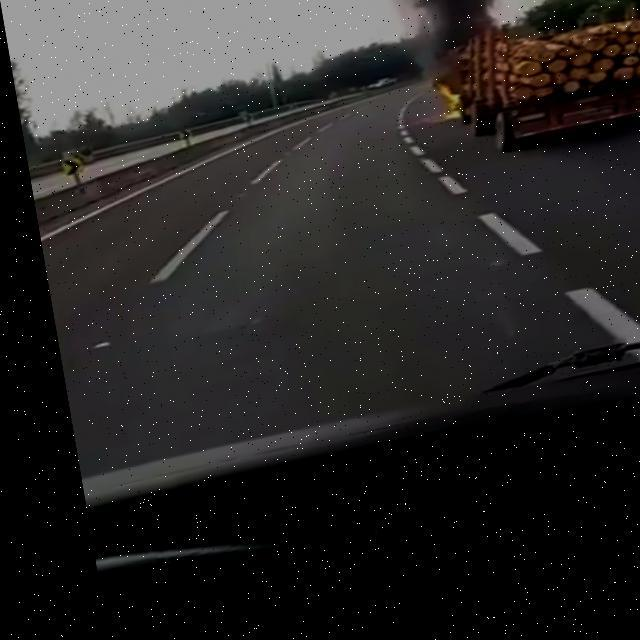Fire: (426, 96, 457, 140)
